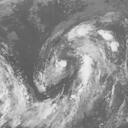cyclone: (36, 17, 114, 95)
